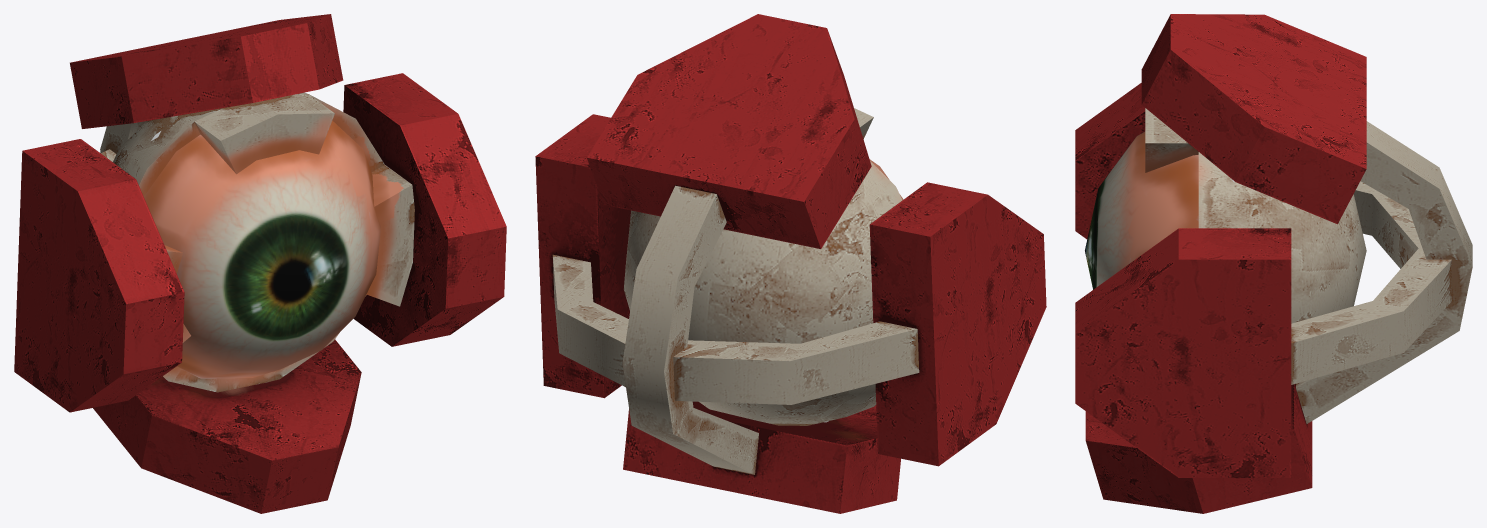
Rendered from CHEST_MECHANIC_EYE.fbx.
3 renders of one model, left to right at view 1: azimuth 30°, elevation 25°; view 2: azimuth 150°, elevation 25°; view 3: azimuth 270°, elevation 25°, orthographic. The views are drawn at different scales.
Visible parts, largest first — view 1: CHEST_MECHANIC_EYE; view 2: CHEST_MECHANIC_EYE; view 3: CHEST_MECHANIC_EYE.
Part boxes in pixels (x1,y1,x2,y2): CHEST_MECHANIC_EYE: (14, 14, 506, 513); CHEST_MECHANIC_EYE: (535, 14, 1046, 513); CHEST_MECHANIC_EYE: (1075, 14, 1472, 513).
Size of the model in its own units: 0.0157 by 0.0175 by 0.0137.
